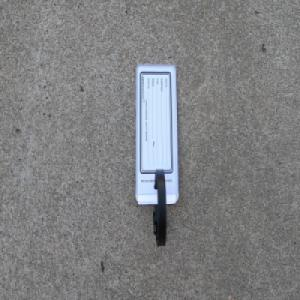LuggageTag: (132, 61, 180, 249)
